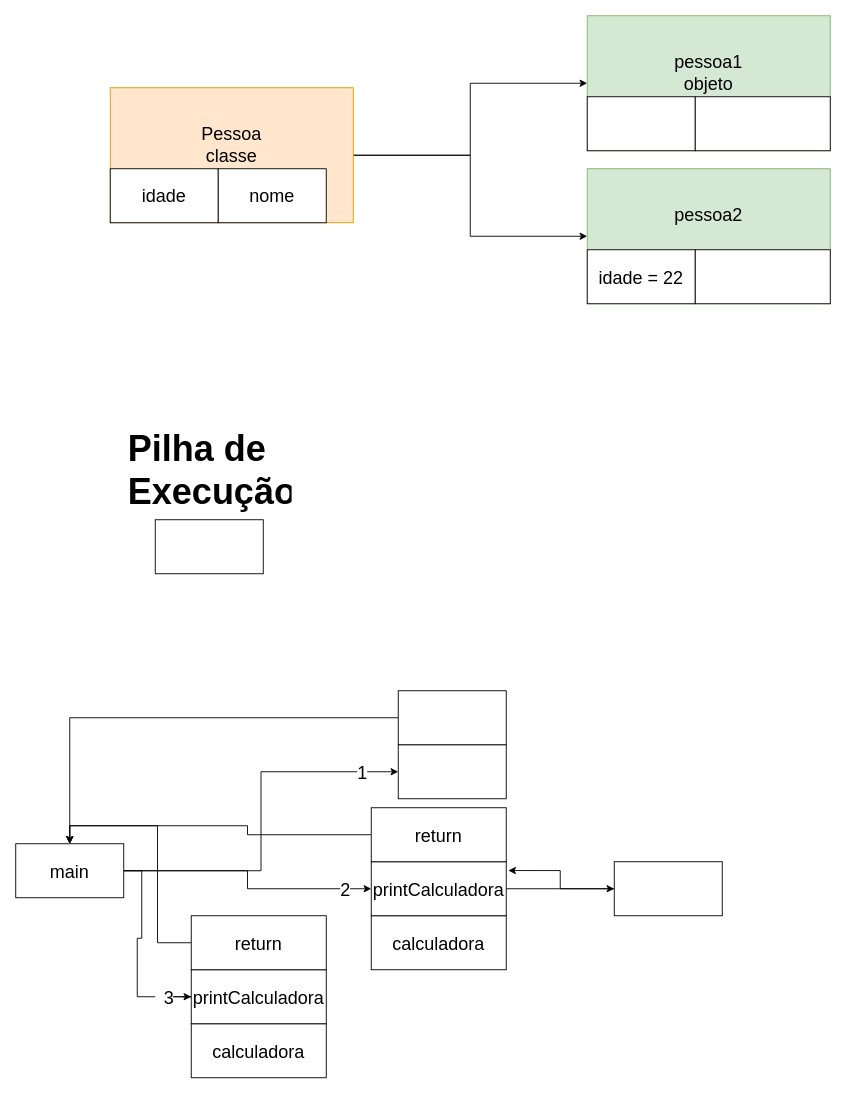
Image size: 846x1094. Some labels were removed from this diagram. Here are the shapes that lost their labels. From the top down, the centre of each, then its label:
point (640, 123): idade = 31
point (762, 123): nome = Fabio
point (762, 276): nome = André
point (451, 717): Return "String"
point (451, 771): toString
point (667, 888): println
